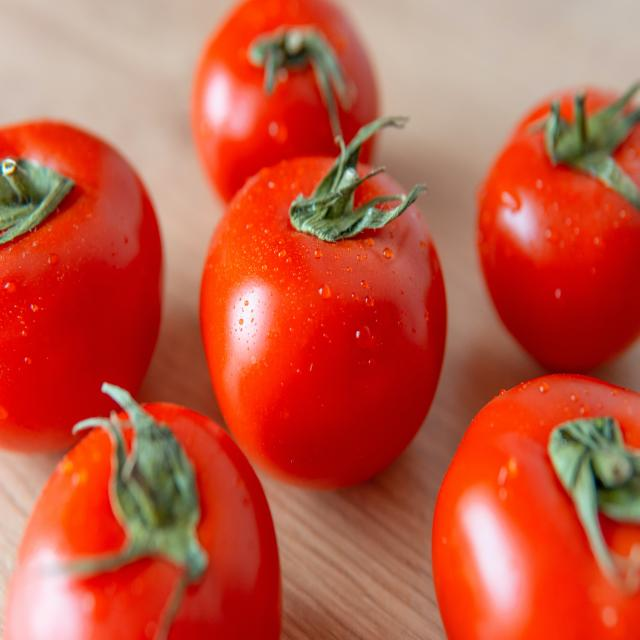Tomato: (208, 134, 456, 467)
